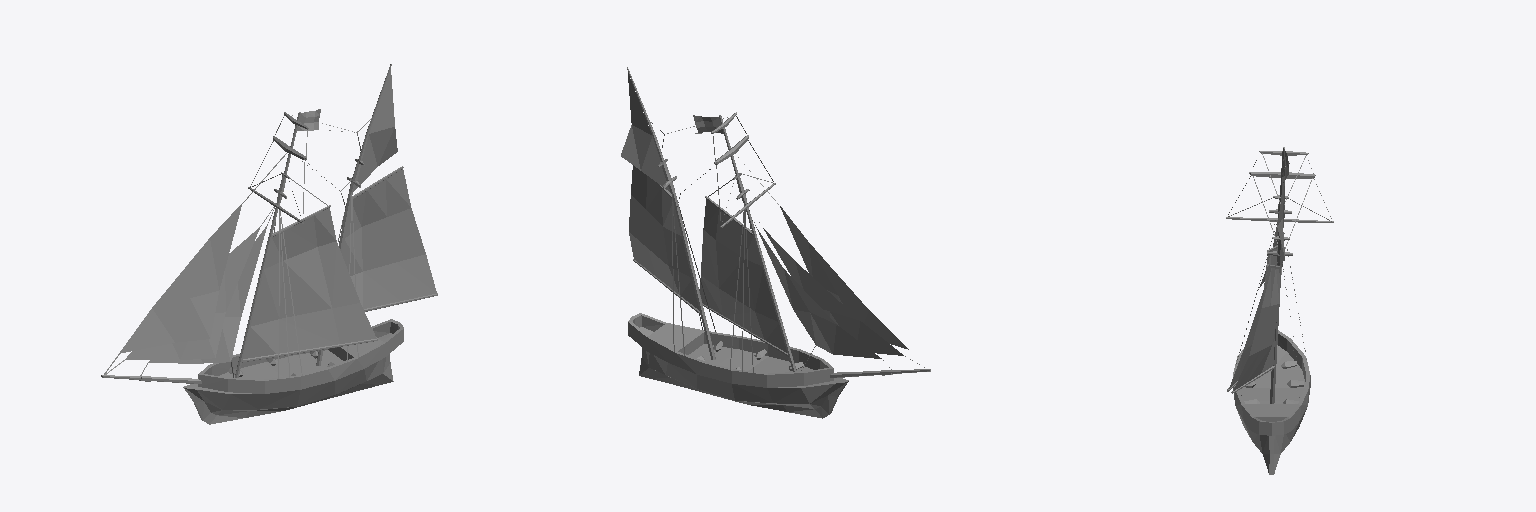
Rendered from smallship4.obj.
3 renders of one model, left to right at view 1: azimuth 30°, elevation 25°; view 2: azimuth 150°, elevation 25°; view 3: azimuth 270°, elevation 25°, orthographic.
Parts seen in each view (by area): view 1: 01_Shhuna; view 2: 01_Shhuna; view 3: 01_Shhuna.
Part boxes in pixels (bbox=[...]): 01_Shhuna: bbox=[101, 64, 437, 424]; 01_Shhuna: bbox=[621, 67, 930, 418]; 01_Shhuna: bbox=[1226, 147, 1333, 474].
Bounding box in the file's own units: 199 × 189 × 58.8.